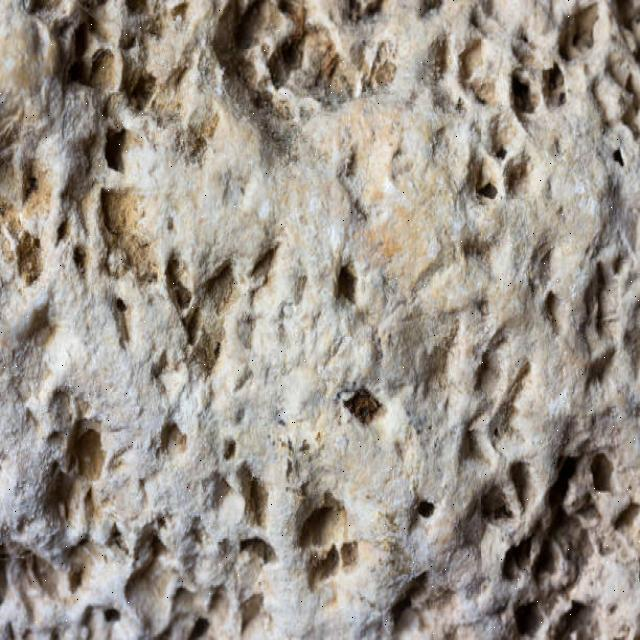Sedimentary: (1, 2, 637, 634)
